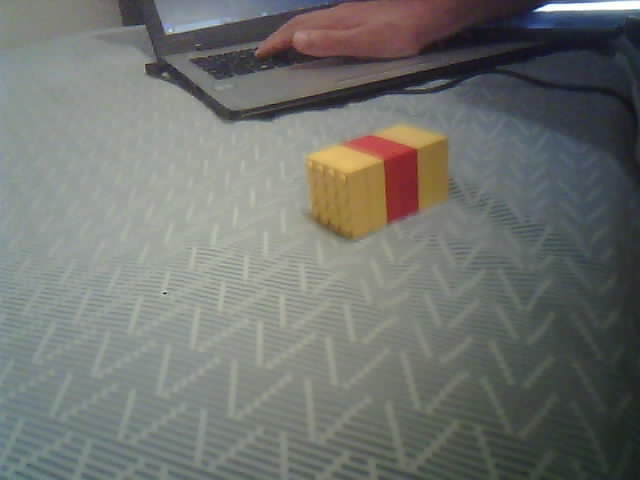lego: (302, 123, 450, 241)
